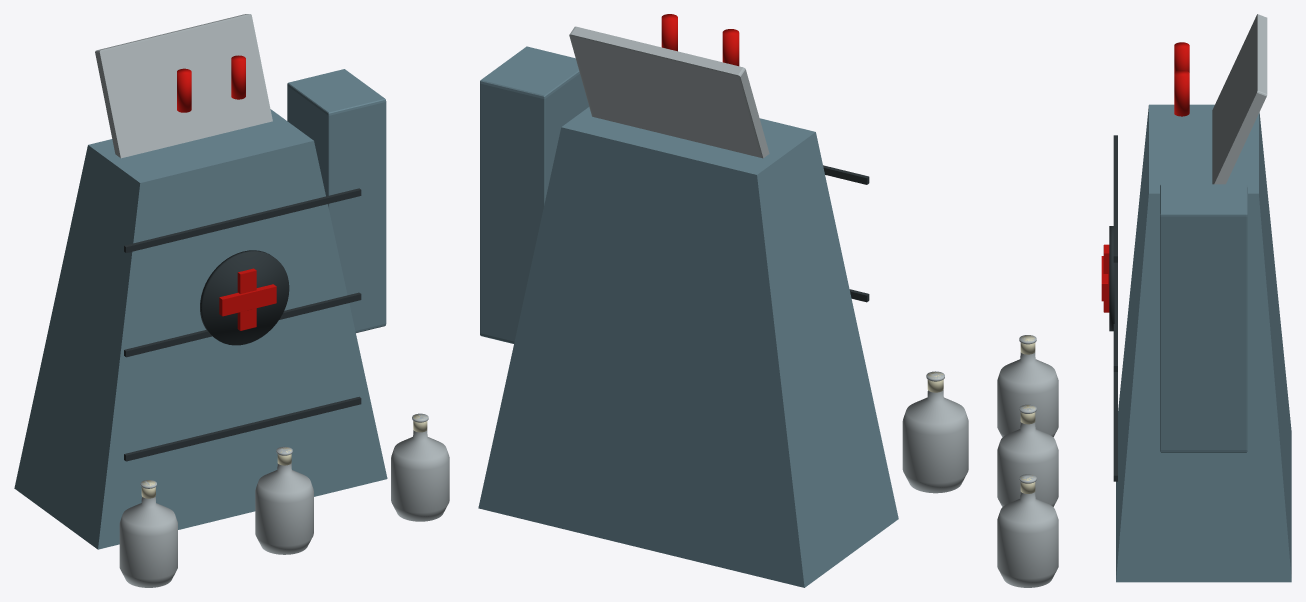
The picture shows the model from 3 angles, left to right: view 1: azimuth 30°, elevation 25°; view 2: azimuth 150°, elevation 25°; view 3: azimuth 270°, elevation 25°; orthographic projection. The views are drawn at different scales.
Visible parts, largest first — view 1: TI070 / tapered Vir-Attack housing, TI070 / hinged top hatch, TI070 / side module, TI070 / round medical badge, TI070 / bottle body.001, TI070 / bottle body.002, TI070 / bottle body, TI070 / case seam, TI070 / case seam.002, TI070 / case seam.001, TI070 / medical cross arm, TI070 / medical cross upright (+2 smaller); view 2: TI070 / tapered Vir-Attack housing, TI070 / side module, TI070 / hinged top hatch, TI070 / bottle body, TI070 / red case handle; view 3: TI070 / tapered Vir-Attack housing, TI070 / side module, TI070 / hinged top hatch, TI070 / bottle body.002, TI070 / bottle body.001, TI070 / bottle body, TI070 / red case handle.001, TI070 / case seam.002, TI070 / round medical badge, TI070 / case seam, TI070 / case seam.001, TI070 / red case handle.
Part boxes in pixels (bbox=[...]): TI070 / tapered Vir-Attack housing: bbox=[14, 109, 387, 549]; TI070 / hinged top hatch: bbox=[95, 14, 272, 158]; TI070 / side module: bbox=[287, 69, 386, 332]; TI070 / round medical badge: bbox=[200, 250, 289, 345]; TI070 / bottle body.001: bbox=[255, 446, 313, 554]; TI070 / bottle body.002: bbox=[391, 413, 449, 521]; TI070 / bottle body: bbox=[119, 480, 177, 587]; TI070 / case seam: bbox=[124, 396, 361, 461]; TI070 / case seam.002: bbox=[124, 188, 361, 252]; TI070 / case seam.001: bbox=[124, 292, 361, 357]; TI070 / medical cross arm: bbox=[219, 284, 276, 316]; TI070 / medical cross upright: bbox=[237, 268, 256, 330]; TI070 / tapered Vir-Attack housing: bbox=[478, 107, 898, 587]; TI070 / side module: bbox=[480, 46, 588, 343]; TI070 / hinged top hatch: bbox=[569, 26, 769, 158]; TI070 / bottle body: bbox=[902, 371, 968, 493]; TI070 / red case handle: bbox=[722, 29, 739, 66]; TI070 / tapered Vir-Attack housing: bbox=[1116, 104, 1291, 582]; TI070 / side module: bbox=[1160, 184, 1247, 452]; TI070 / hinged top hatch: bbox=[1212, 14, 1267, 184]; TI070 / bottle body.002: bbox=[997, 474, 1058, 587]; TI070 / bottle body.001: bbox=[997, 404, 1058, 506]; TI070 / bottle body: bbox=[997, 335, 1058, 437]; TI070 / red case handle.001: bbox=[1174, 70, 1189, 116]; TI070 / case seam.002: bbox=[1113, 135, 1117, 262]; TI070 / round medical badge: bbox=[1109, 226, 1114, 331]; TI070 / case seam: bbox=[1113, 372, 1117, 481]; TI070 / case seam.001: bbox=[1113, 262, 1117, 371]; TI070 / red case handle: bbox=[1174, 42, 1189, 72].
Bounding box in the file's own units: 1.8 × 2.29 × 1.34.
